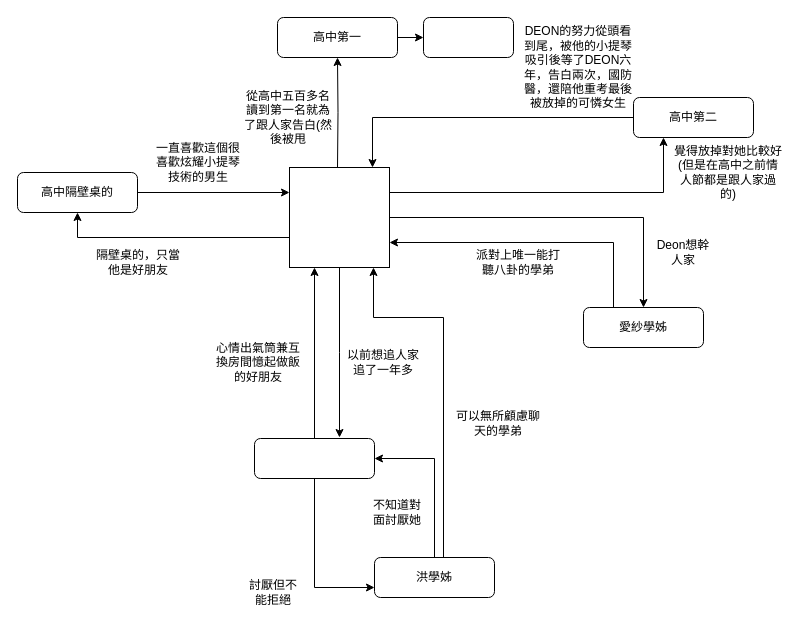
The diagram is 801 pixels wide and 625 high, and some of its shapes have lost their labels. The shapes that lost their labels are listed below. From the top down, each one's box as (x1, y1, x2, y2) in pixels, then its label:
(422, 16, 514, 58): 另一位男生
(288, 166, 390, 268): Deon
(254, 438, 374, 478): 現任學妹
